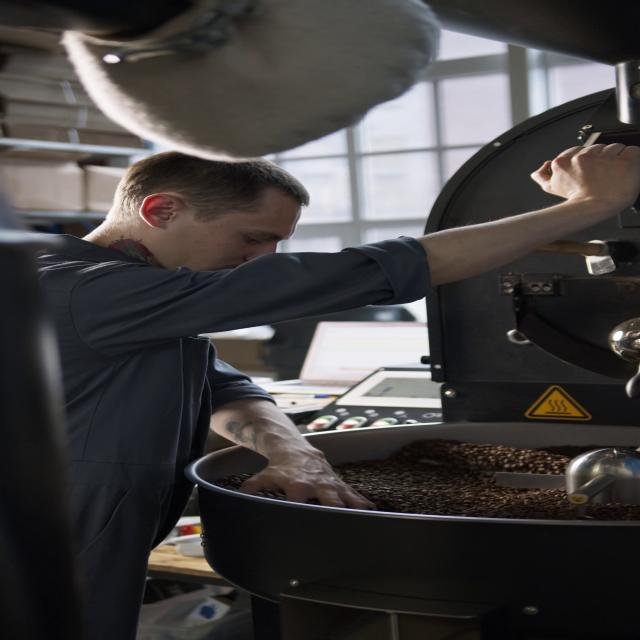not-gloved: (235, 448, 377, 511), (528, 141, 638, 209)
